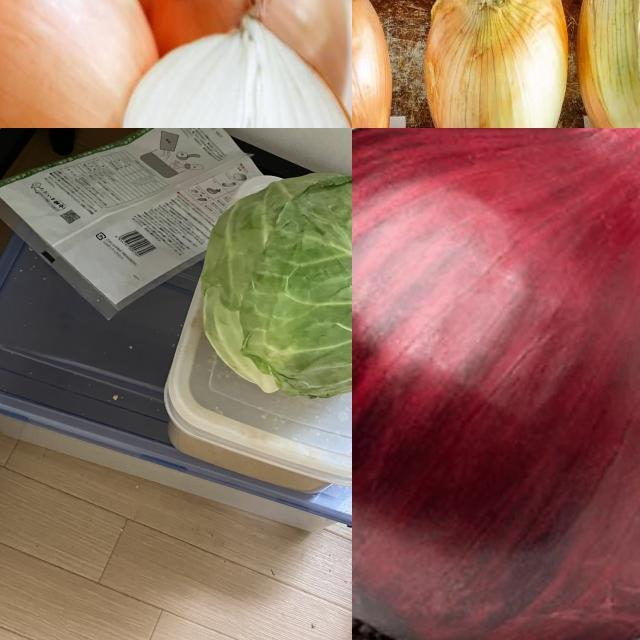cabbage: (197, 171, 353, 405)
onion: (353, 129, 640, 640), (162, 1, 351, 129), (126, 23, 353, 129), (1, 1, 161, 129), (423, 1, 570, 129), (576, 1, 640, 129), (21, 1, 187, 40), (353, 1, 395, 129)
